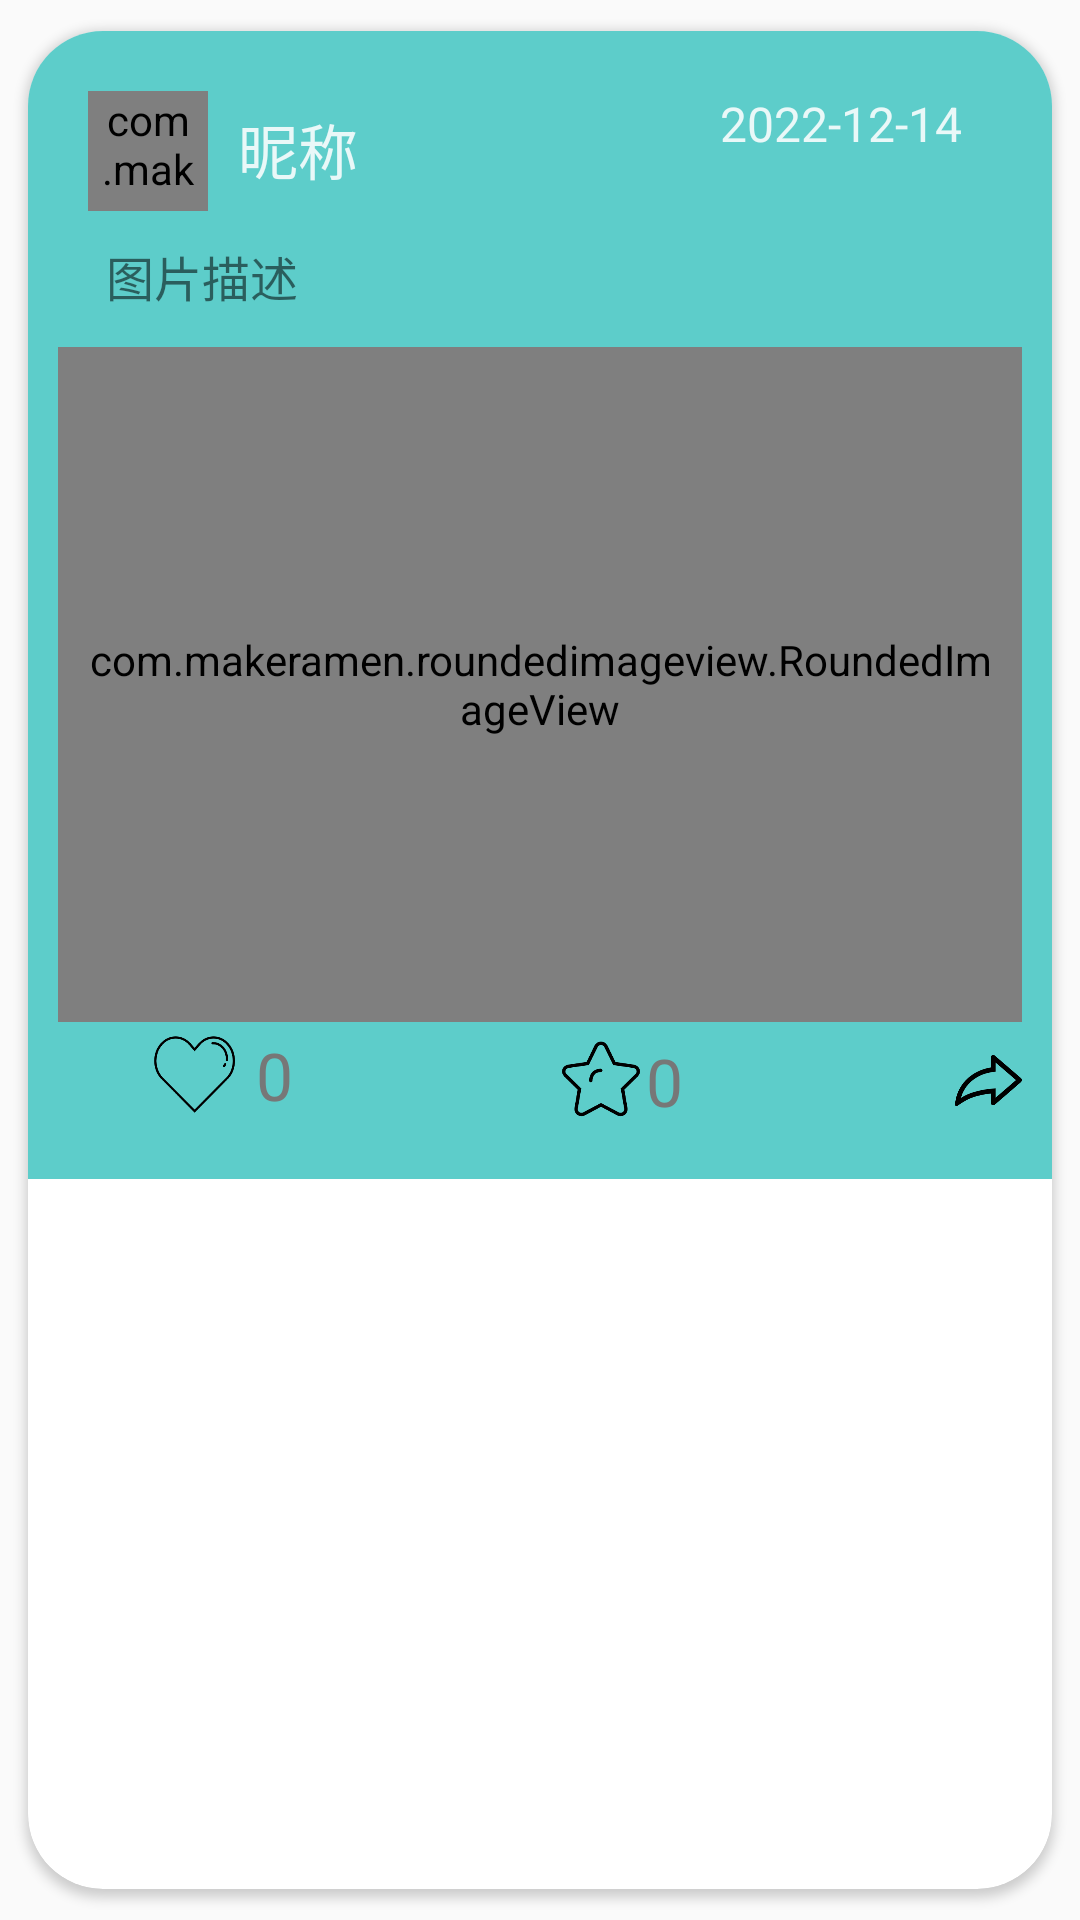

Point at icon controls on the screen. Image size 1080x1920, points as (x=x, y=y).
collect: (x=601, y=1078)
like: (x=194, y=1074)
zhuanfa: (x=988, y=1080)
